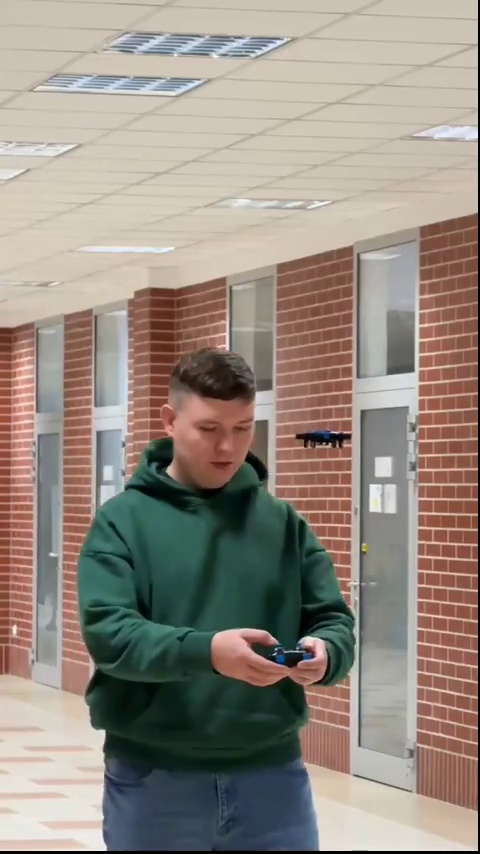drone: (300, 429, 353, 448)
no vest: (85, 354, 359, 853)
